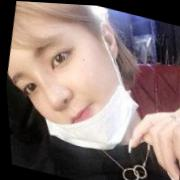WRONG: (2, 13, 141, 153)
